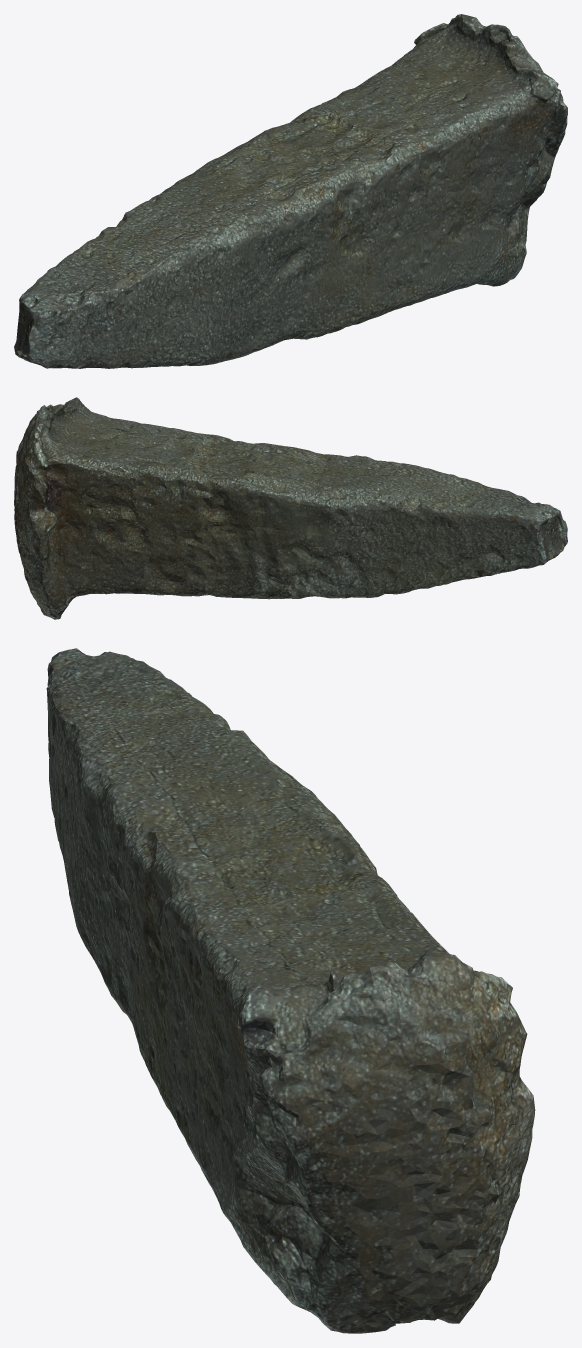
Rendered from Nakovalnya.glb.
3 renders of one model, top to bottom at view 1: azimuth 30°, elevation 25°; view 2: azimuth 150°, elevation 25°; view 3: azimuth 270°, elevation 25°, orthographic. The views are drawn at different scales.
Visible parts, largest first — view 1: Nakovalnya_textured_scaled_m; view 2: Nakovalnya_textured_scaled_m; view 3: Nakovalnya_textured_scaled_m.
Part boxes in pixels (left/top/right/bottom): Nakovalnya_textured_scaled_m: left=14, top=14, right=567, bottom=368; Nakovalnya_textured_scaled_m: left=14, top=397, right=567, bottom=619; Nakovalnya_textured_scaled_m: left=46, top=648, right=535, bottom=1333.
Bounding box in the file's own units: 0.2153 × 0.0837 × 0.0966.
1 material, 1 textured.
